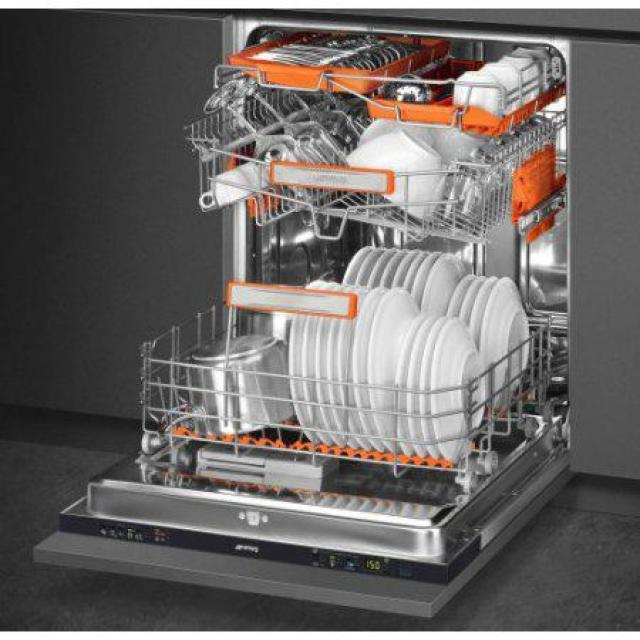dishwasher: (34, 16, 570, 620)
